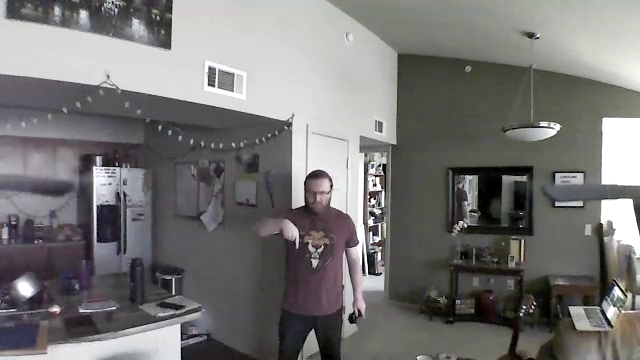down: (276, 214, 305, 256)
